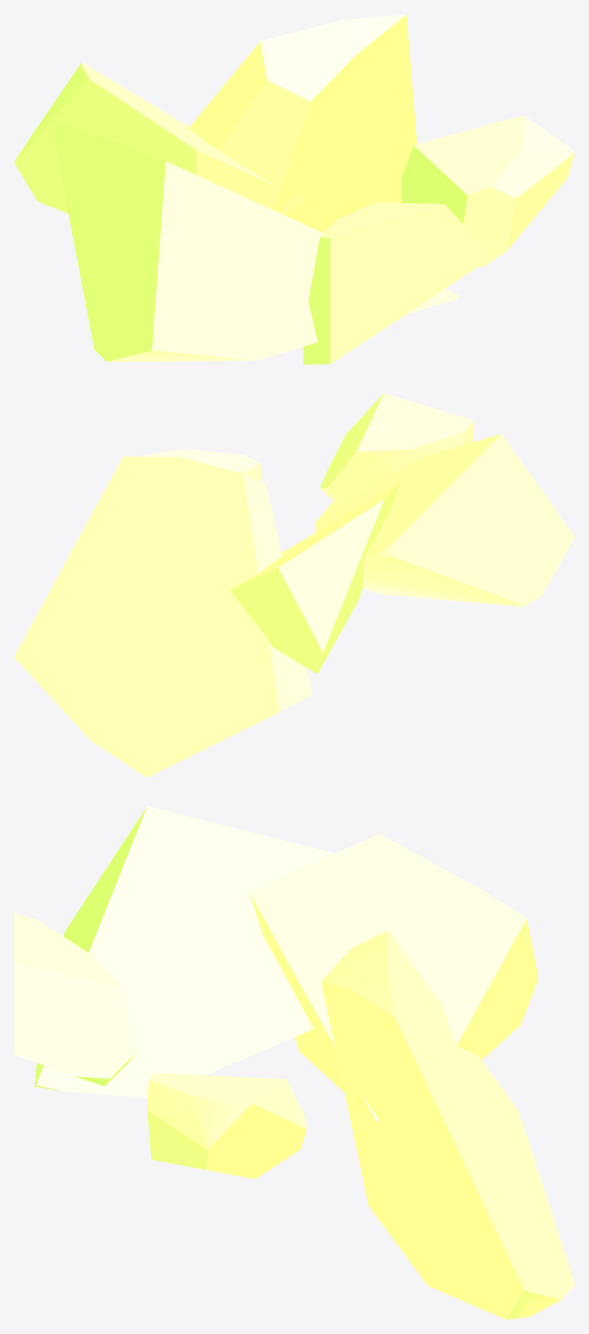
The model's file is rocks scatter purple.fbx.
3 renders of one model, top to bottom at view 1: azimuth 30°, elevation 25°; view 2: azimuth 150°, elevation 25°; view 3: azimuth 270°, elevation 25°, orthographic. The views are drawn at different scales.
Visible parts, largest first — view 1: Pyramid_fracturepart4, Pyramid_fracturepart12, Cube_fracturepart4, Cube_fracturepart6, Pyramid_fracturepart18; view 2: Pyramid_fracturepart12, Pyramid_fracturepart4, Pyramid_fracturepart18, Cube_fracturepart4, Cube_fracturepart6; view 3: Pyramid_fracturepart12, Pyramid_fracturepart4, Pyramid_fracturepart18, Cube_fracturepart4, Cube_fracturepart6.
Part boxes in pixels (box(x1,y1,x2,y2)): Pyramid_fracturepart4: box(53, 121, 459, 362); Pyramid_fracturepart12: box(188, 14, 417, 232); Cube_fracturepart4: box(303, 202, 492, 364); Cube_fracturepart6: box(401, 116, 574, 267); Pyramid_fracturepart18: box(14, 62, 306, 214); Pyramid_fracturepart12: box(14, 456, 312, 777); Pyramid_fracturepart4: box(315, 434, 574, 606); Pyramid_fracturepart18: box(230, 482, 399, 673); Cube_fracturepart4: box(320, 393, 473, 503); Cube_fracturepart6: box(139, 449, 261, 481); Pyramid_fracturepart12: box(321, 930, 574, 1319); Pyramid_fracturepart4: box(34, 806, 334, 1097); Pyramid_fracturepart18: box(249, 834, 538, 1121); Cube_fracturepart4: box(14, 912, 137, 1085); Cube_fracturepart6: box(147, 1073, 306, 1178).
Bounding box in the file's own units: 423 × 294 × 404.
